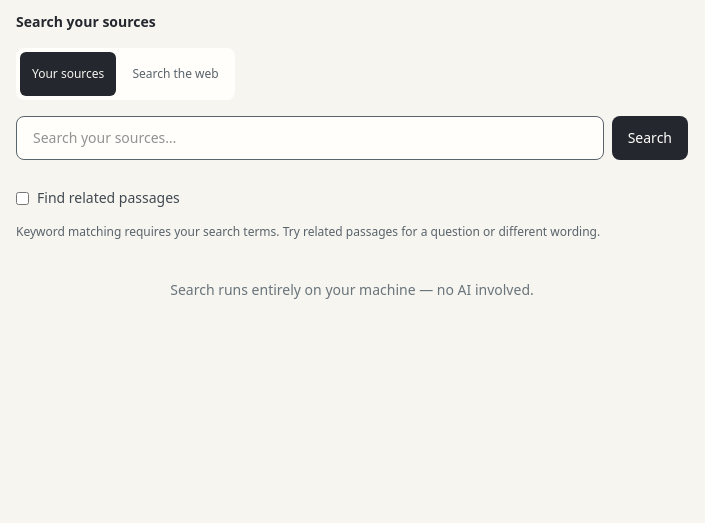
it: web results render a visible count in the named web-count region
The width and height of the screenshot is (705, 523).
Click the button "Search the web". click: (176, 74)
box: [120,52,231,96]
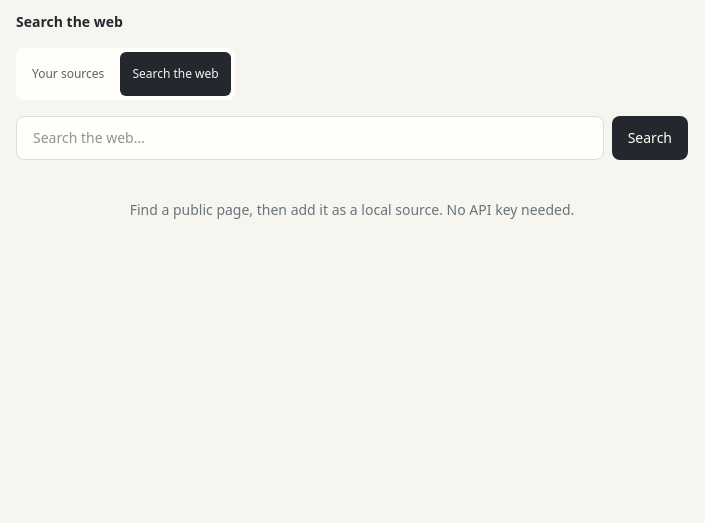
Type "cells" into the search field with placeholder "Search the web…". click: (310, 138)
box: [16,116,604,160]
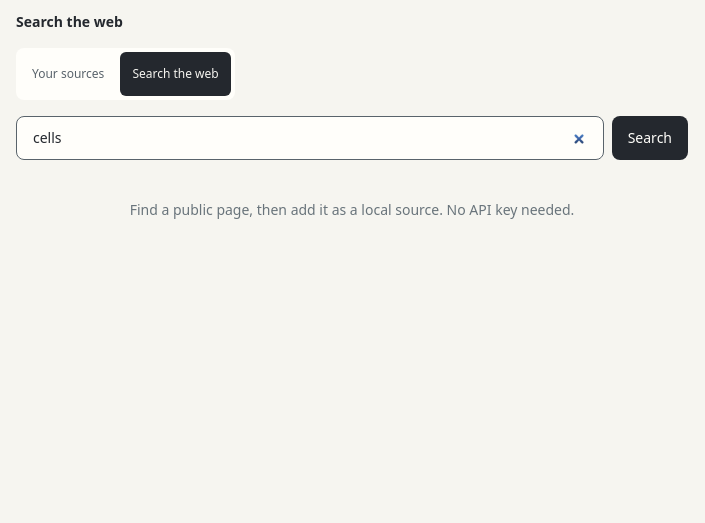
Submit the form with placeholder "search the web", box [16,116,688,160]
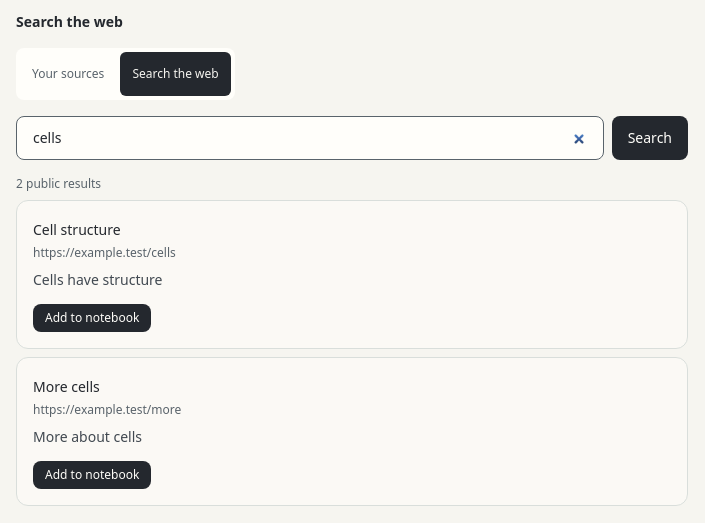
expect the message named "Web search result count" reads "2 public results": met, box [16,175,101,192]
